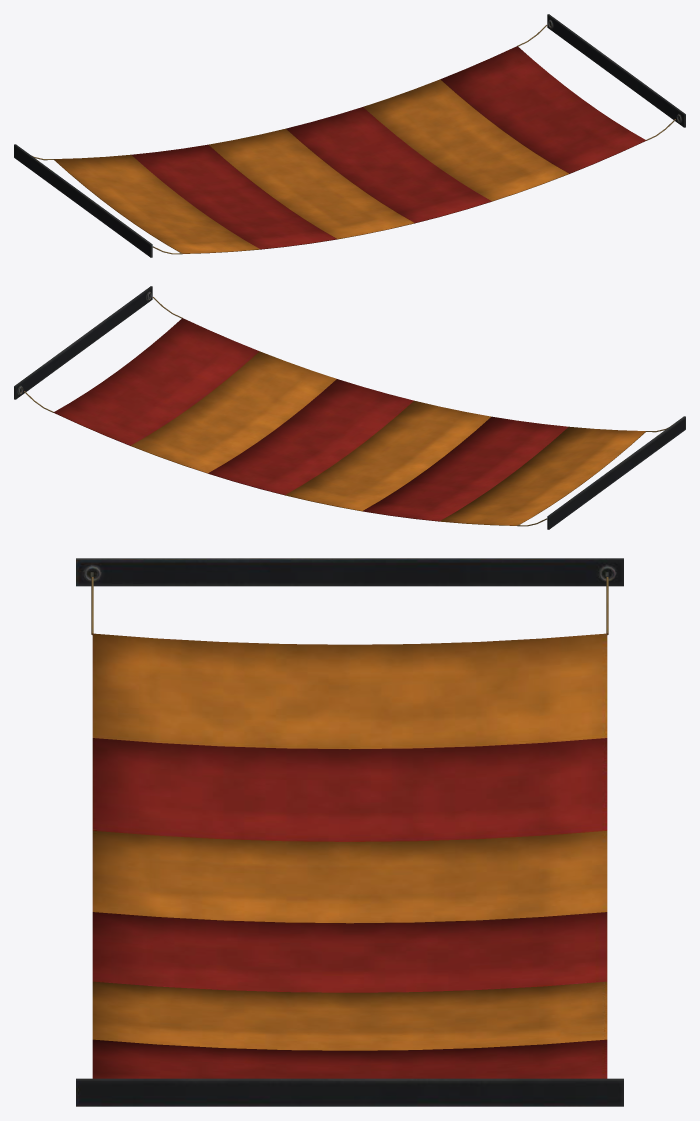
Rendered from street_awning.glb.
3 views of the same model, one above another, from view 1: azimuth 30°, elevation 25°; view 2: azimuth 150°, elevation 25°; view 3: azimuth 270°, elevation 25° (orthographic). The views are drawn at different scales.
Visible parts, largest first — view 1: street_awning; view 2: street_awning; view 3: street_awning.
Boxes of the visible parts, box(x1,y1,x2,y2) form: street_awning: box(14, 14, 685, 257); street_awning: box(14, 286, 685, 529); street_awning: box(76, 558, 623, 1106).
Size of the model in its own units: 6 by 0.564 by 2.66.
1 material, 1 textured.
